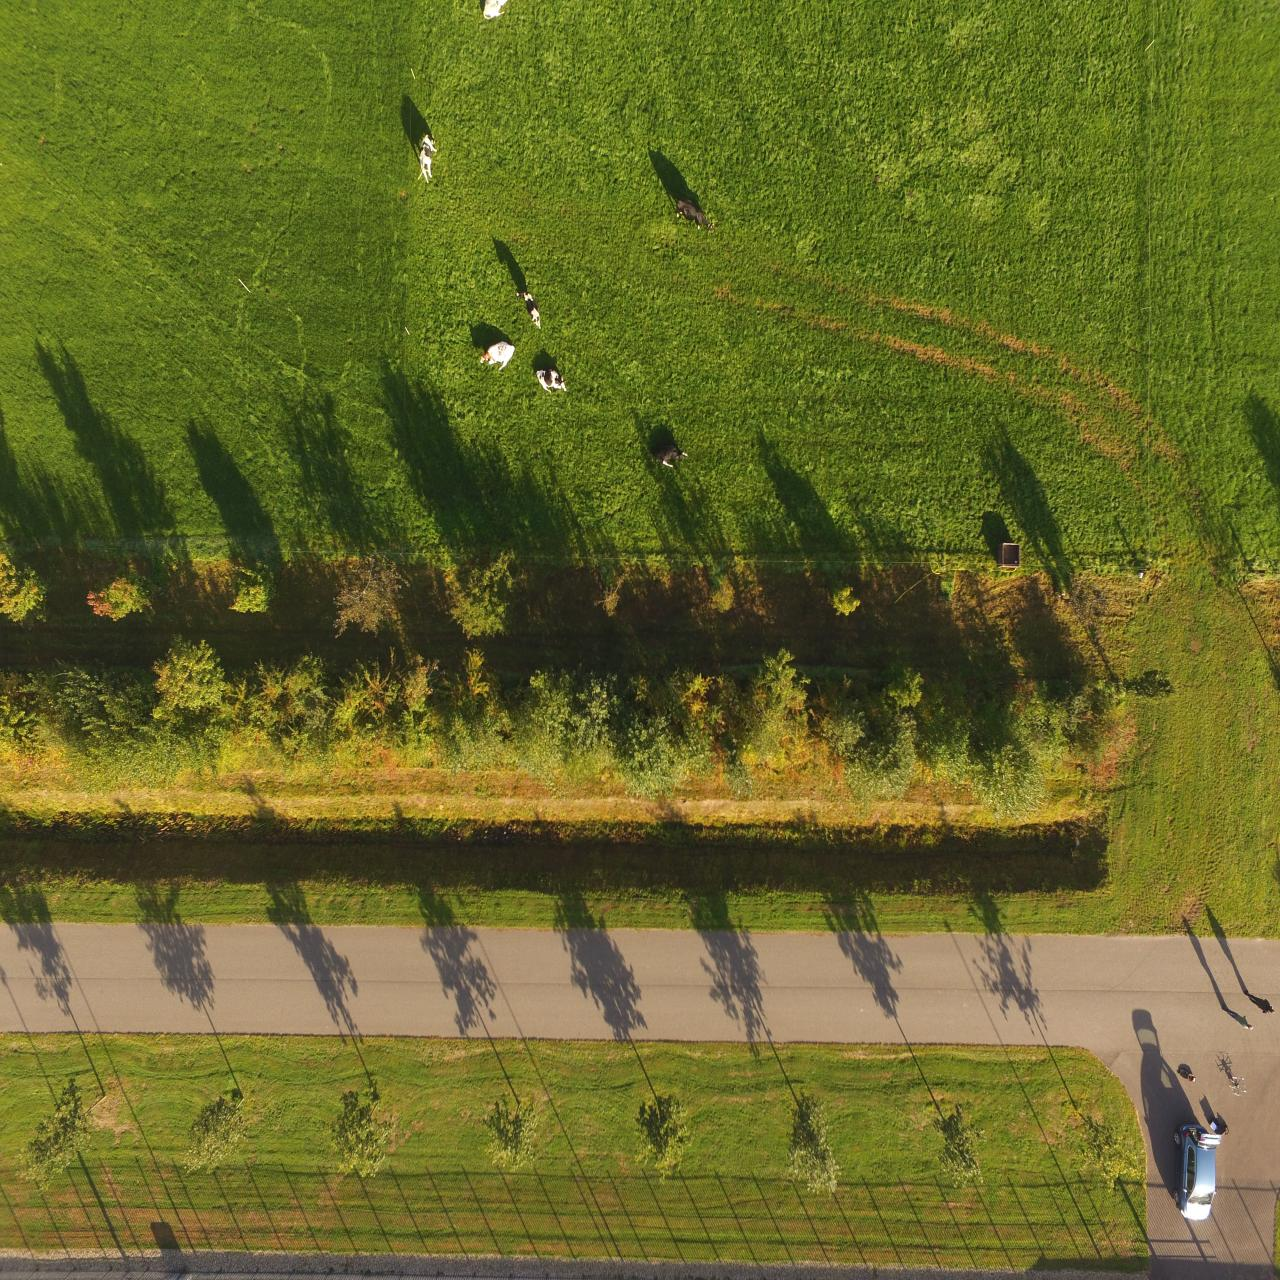cow: (672, 186, 718, 238), (474, 329, 518, 382), (528, 357, 574, 402), (514, 280, 548, 336), (654, 438, 698, 478), (410, 124, 436, 187)
